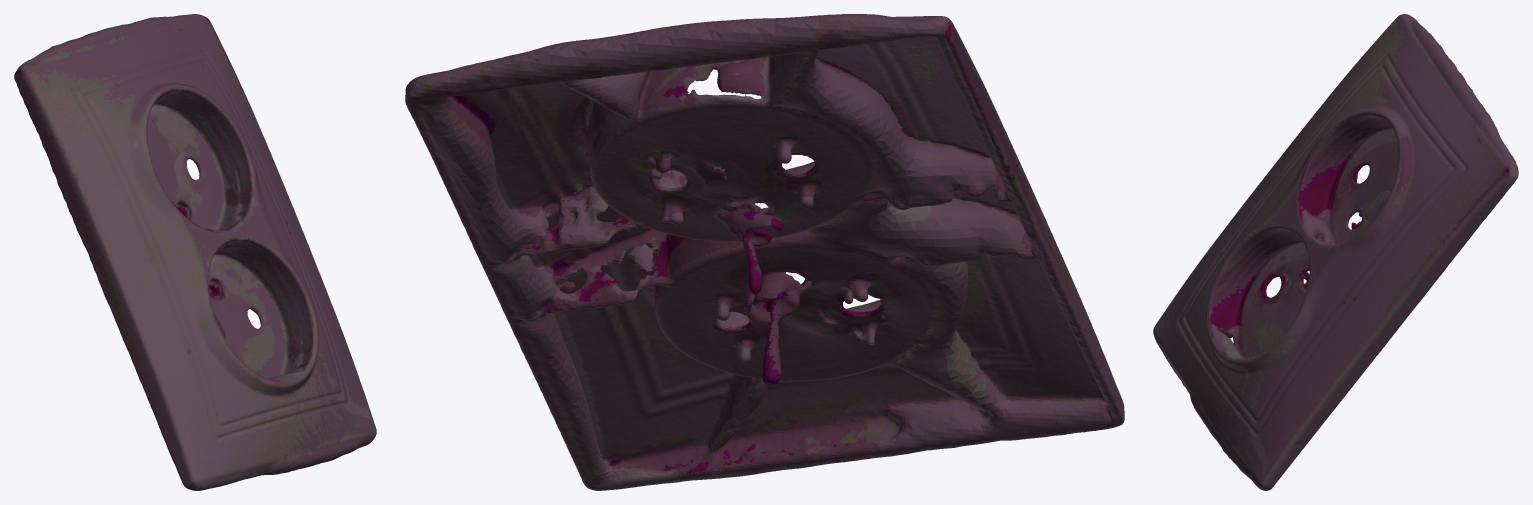
3 views of the same model, side by side, from view 1: azimuth 30°, elevation 25°; view 2: azimuth 150°, elevation 25°; view 3: azimuth 270°, elevation 25° (orthographic). The views are drawn at different scales.
Size of the model in its own units: 84.84 by 110 by 103.
